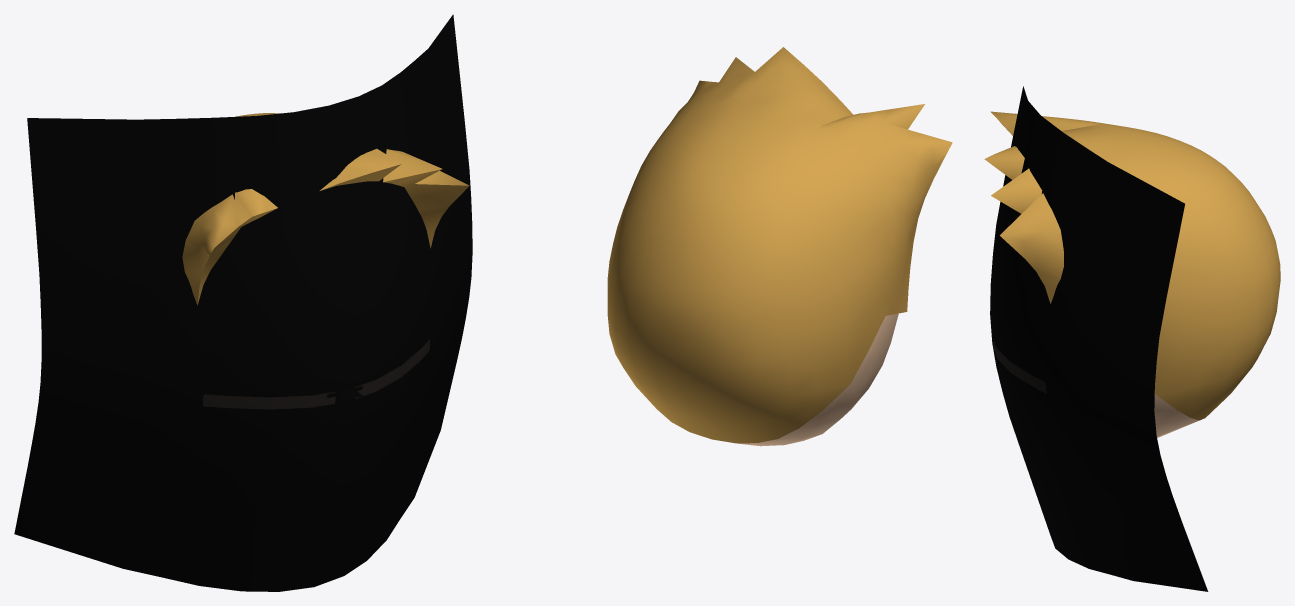
3 renders of one model, left to right at view 1: azimuth 30°, elevation 25°; view 2: azimuth 150°, elevation 25°; view 3: azimuth 270°, elevation 25°, orthographic. The views are drawn at different scales.
Parts seen in each view (by area): view 1: XluMask, OpaHair; view 2: OpaHair, OpaFaceline; view 3: XluMask, OpaHair, OpaFaceline.
Part boxes in pixels (x1,y1,x2,y2): XluMask: (14,14,472,591); OpaHair: (182,113,469,305); OpaHair: (607,47,952,443); OpaFaceline: (737,313,898,446); XluMask: (990,86,1208,591); OpaHair: (984,111,1280,420); OpaFaceline: (1154,393,1198,437).
Bounding box in the file's own units: 91.85 × 100 × 59.98.
Materials: 5 (2 with a texture image).
